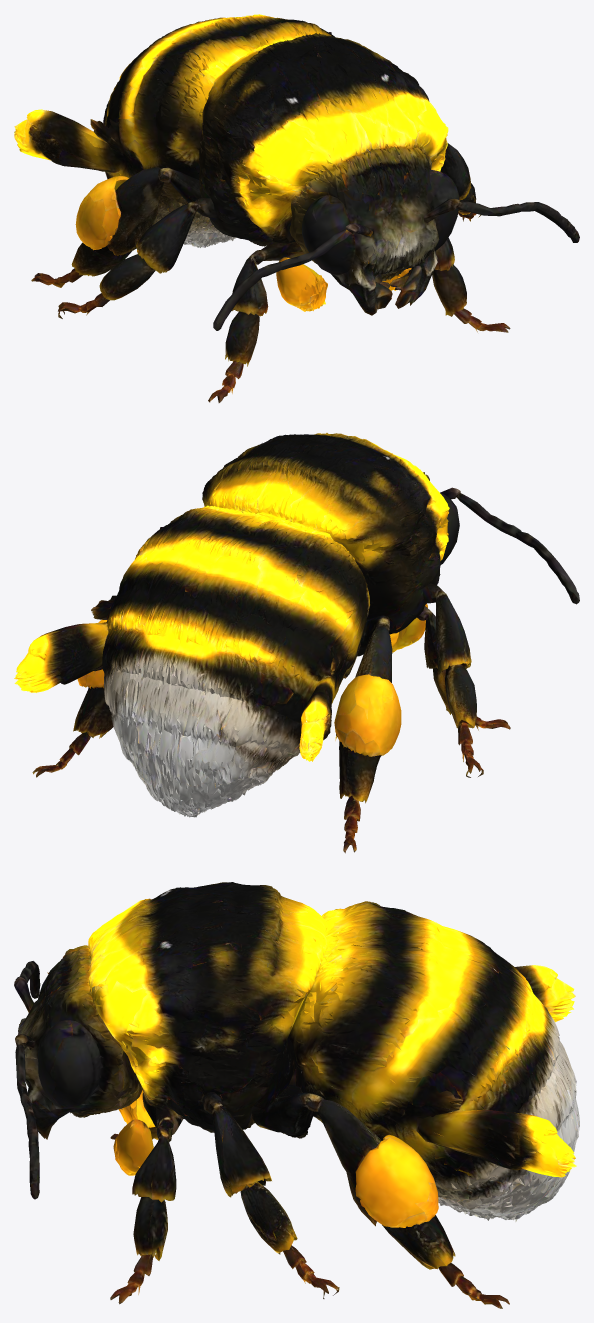
File: bee.glb
The picture shows the model from 3 angles, top to bottom: view 1: azimuth 30°, elevation 25°; view 2: azimuth 150°, elevation 25°; view 3: azimuth 270°, elevation 25°; orthographic projection. The views are drawn at different scales.
Parts seen in each view (by area): view 1: Mesh_0; view 2: Mesh_0; view 3: Mesh_0.
Part boxes in pixels (x1,y1,x2,y2): Mesh_0: [14, 14, 579, 402]; Mesh_0: [14, 433, 579, 853]; Mesh_0: [14, 882, 579, 1308].
Bounding box in the file's own units: 1.87 × 1.19 × 1.88.
1 material, 1 textured.
